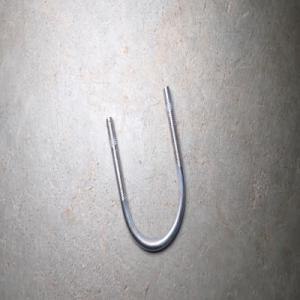ClampPart: (105, 84, 186, 253)
